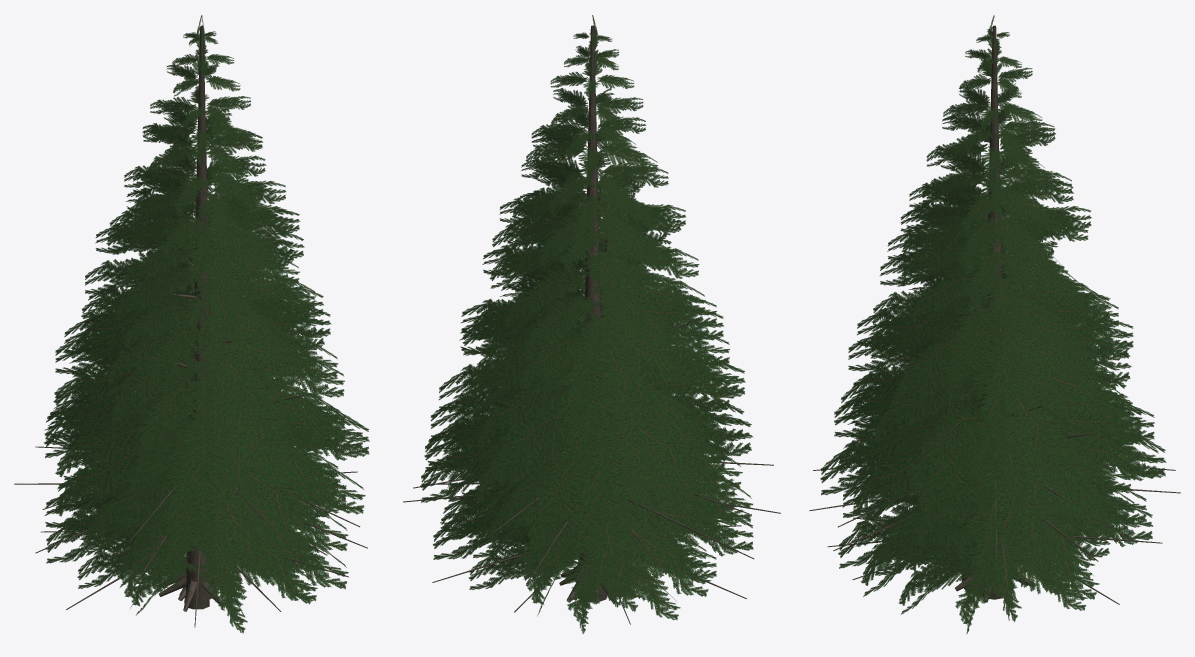
File: trees_kit.glb
3 views of the same model, side by side, from view 1: azimuth 30°, elevation 25°; view 2: azimuth 150°, elevation 25°; view 3: azimuth 270°, elevation 25° (orthographic).
Visible parts, largest first — view 1: conifer_01.001, conifer_02.001, conifer_03.001, dead_tree_01.001; view 2: conifer_01.001, conifer_02.001, conifer_03.001; view 3: conifer_01.001, conifer_02.001, conifer_03.001.
Boxes of the visible parts, box(x1,y1,x2,y2) form: conifer_01.001: box(14, 15, 369, 600); conifer_02.001: box(41, 185, 348, 627); conifer_03.001: box(77, 292, 319, 633); dead_tree_01.001: box(151, 232, 304, 611); conifer_01.001: box(403, 15, 780, 602); conifer_02.001: box(432, 180, 753, 624); conifer_03.001: box(468, 299, 716, 633); conifer_01.001: box(809, 15, 1180, 601); conifer_02.001: box(827, 181, 1162, 622); conifer_03.001: box(875, 299, 1114, 633).
Size of the model in its own units: 7.7 by 13.03 by 7.58.
3 materials, 3 textured.
